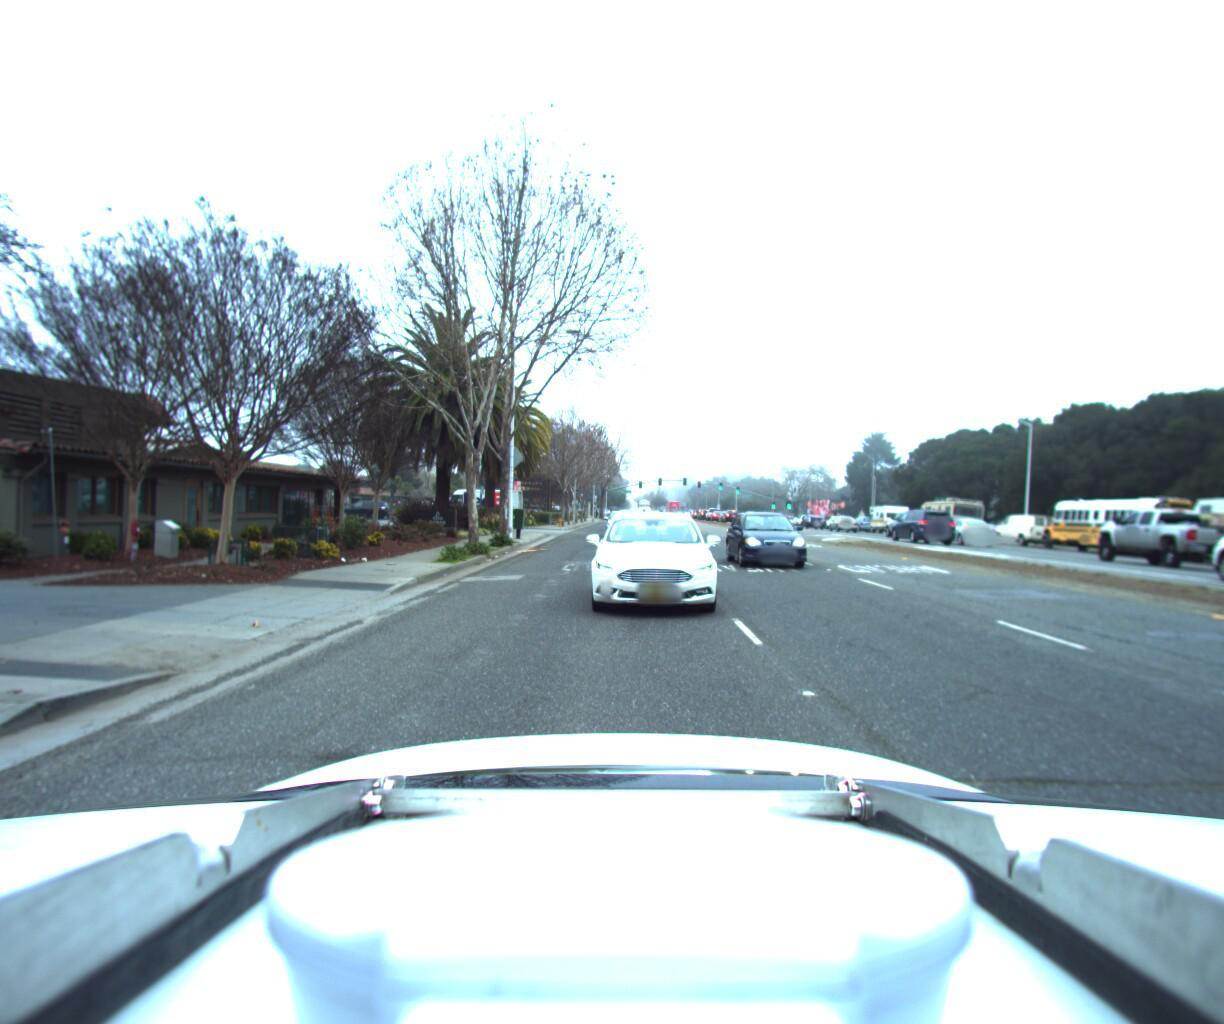bus: (1037, 486, 1211, 559)
car: (582, 504, 731, 625), (1075, 501, 1224, 565), (724, 502, 827, 569), (1177, 498, 1224, 595), (879, 502, 954, 542), (992, 504, 1063, 544), (926, 511, 999, 548), (603, 503, 641, 534), (825, 509, 859, 527), (796, 506, 825, 522)
other_vehicle: (1176, 479, 1224, 578), (911, 488, 989, 538), (867, 495, 913, 530)
truck: (435, 479, 528, 518)
